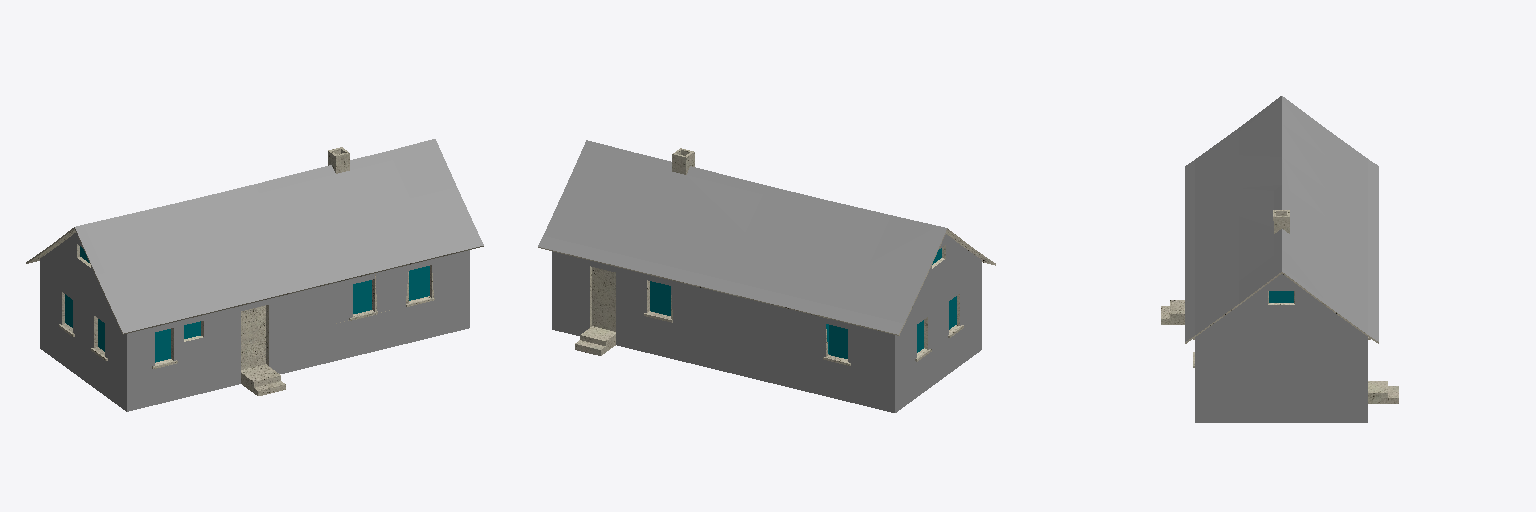
3 renders of one model, left to right at view 1: azimuth 30°, elevation 25°; view 2: azimuth 150°, elevation 25°; view 3: azimuth 270°, elevation 25°, orthographic.
Parts seen in each view (by area): view 1: pHouse; view 2: pHouse; view 3: pHouse.
Boxes of the visible parts, <box> form: pHouse: <box>26,139,483,411</box>; pHouse: <box>538,140,995,412</box>; pHouse: <box>1161,96,1398,422</box>.
Bounding box in the file's own units: 9.66 × 4.26 × 5.5.
4 materials, 2 textured.